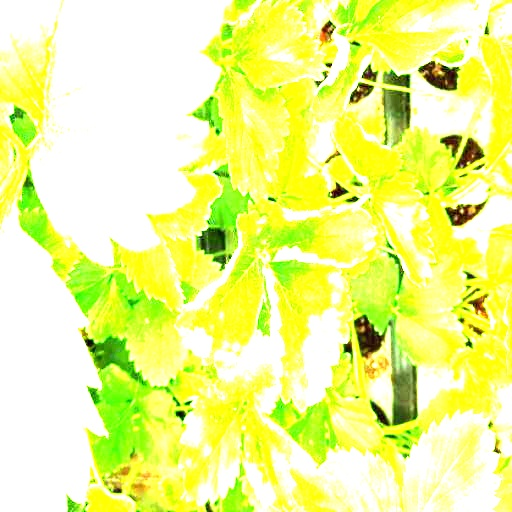Powdery Mildew Leaf: (175, 211, 270, 367), (262, 260, 356, 413), (247, 199, 381, 269), (244, 400, 321, 511), (176, 384, 245, 507), (310, 23, 375, 129), (212, 329, 282, 415), (330, 116, 403, 194)
